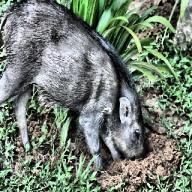boar: (0, 0, 146, 174)
